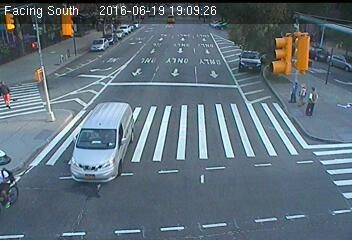neg: (79, 173, 96, 195)
pos: (302, 85, 327, 119), (286, 78, 304, 102), (295, 83, 310, 102)
